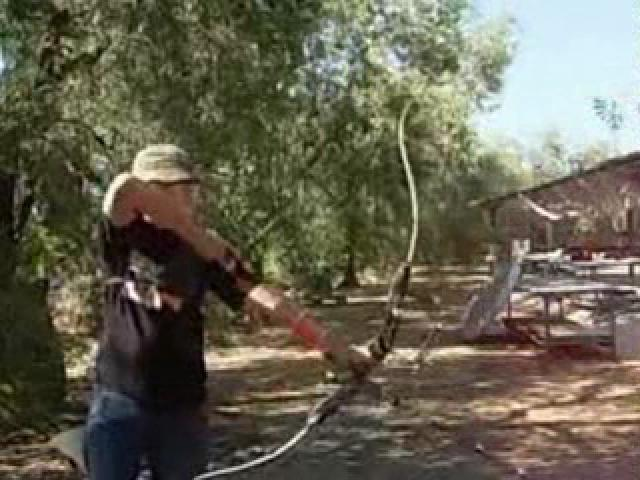I: (75, 127, 372, 480)
